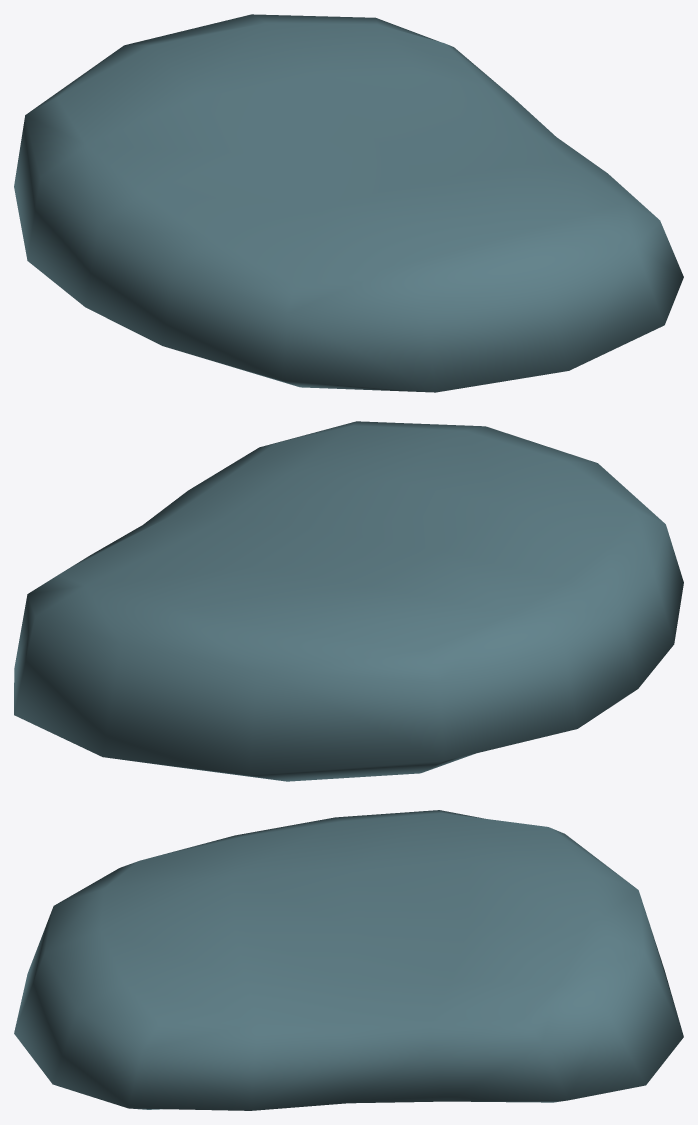
Rendered from Rock_B_03_LOD2.gltf.
3 renders of one model, top to bottom at view 1: azimuth 30°, elevation 25°; view 2: azimuth 150°, elevation 25°; view 3: azimuth 270°, elevation 25°, orthographic. The views are drawn at different scales.
Parts seen in each view (by area): view 1: Rock_B_03_LOD2_Cube.756; view 2: Rock_B_03_LOD2_Cube.756; view 3: Rock_B_03_LOD2_Cube.756.
Part boxes in pixels (<box>): Rock_B_03_LOD2_Cube.756: <box>14,14,683,392</box>; Rock_B_03_LOD2_Cube.756: <box>14,421,683,781</box>; Rock_B_03_LOD2_Cube.756: <box>14,810,683,1110</box>.
Bounding box in the file's own units: 3.23 × 0.954 × 4.11.
Materials: 1 (1 with a texture image).
